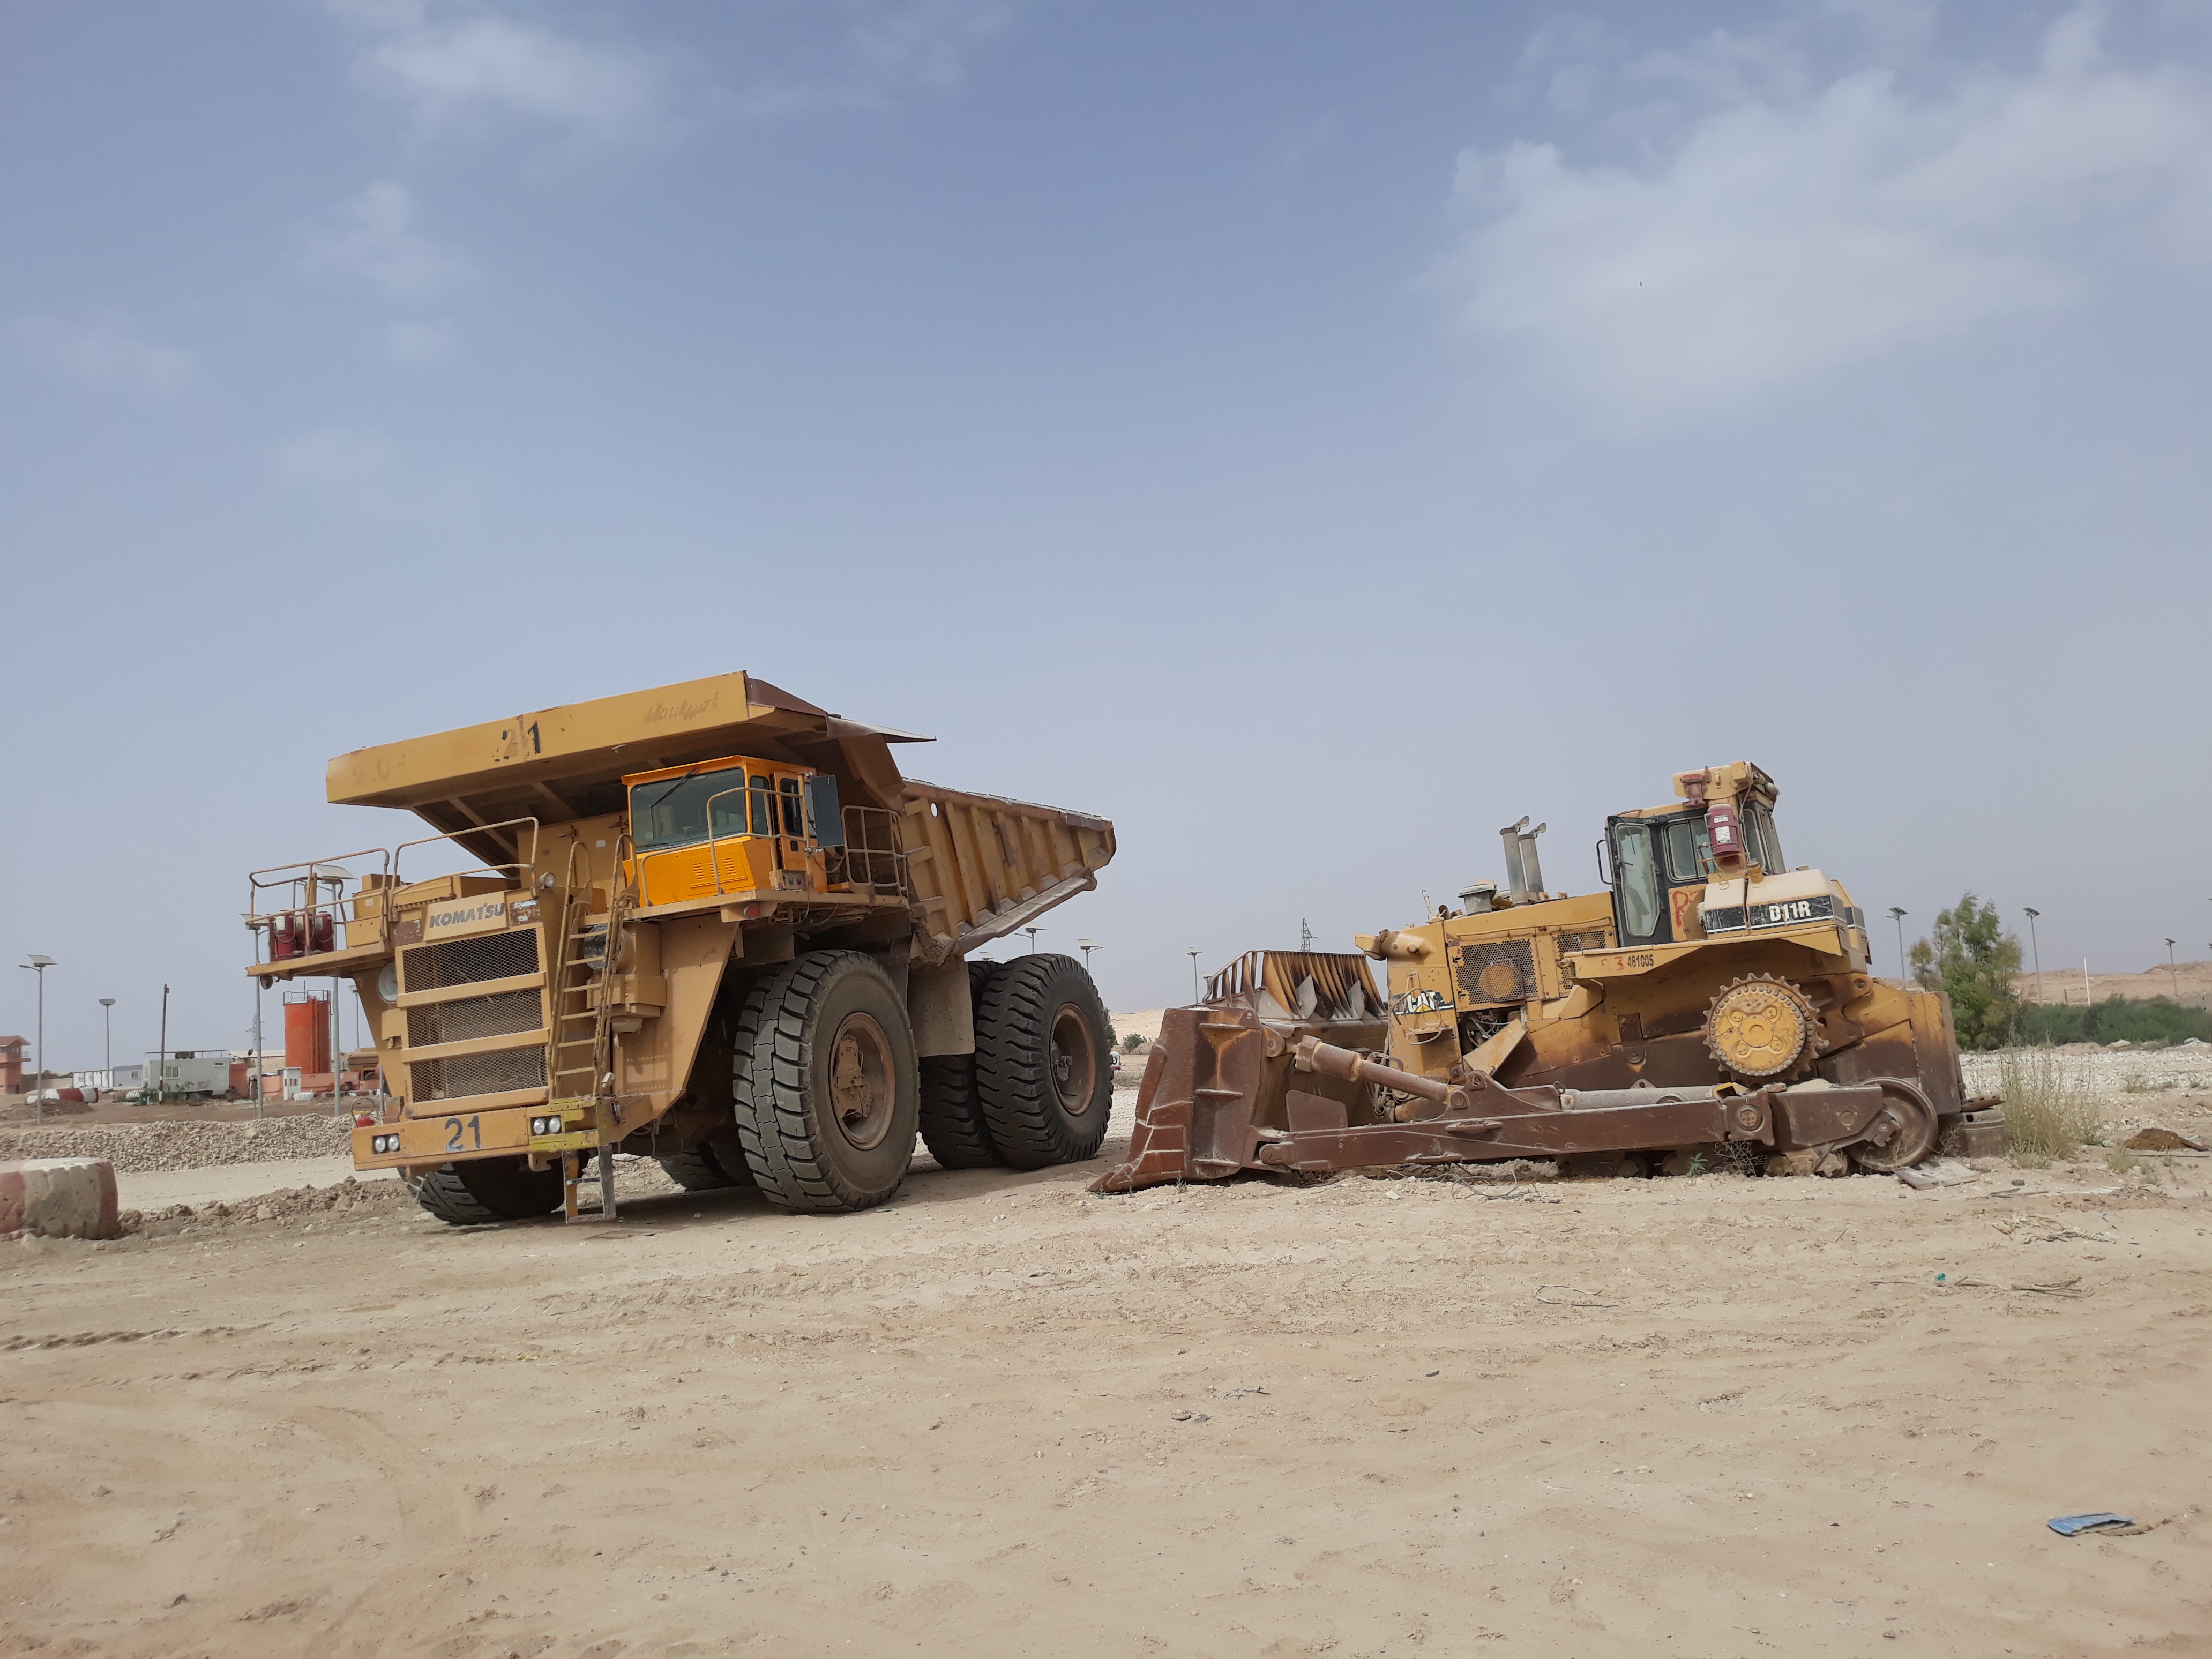bulldozer: (1089, 741, 2000, 1253)
camion: (310, 653, 1148, 1291)
